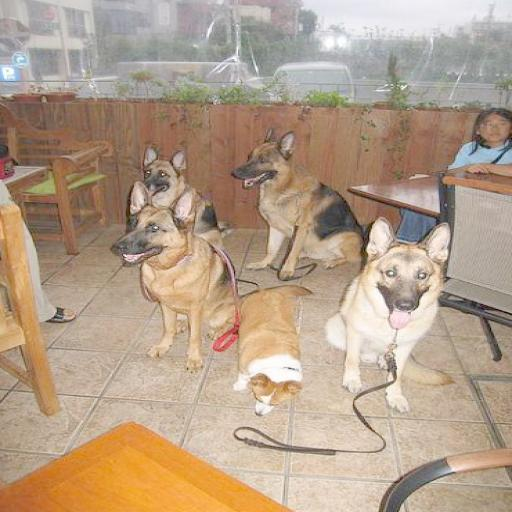dog_face: (360, 219, 455, 321), (120, 186, 198, 266), (238, 129, 299, 199), (136, 148, 196, 192)
